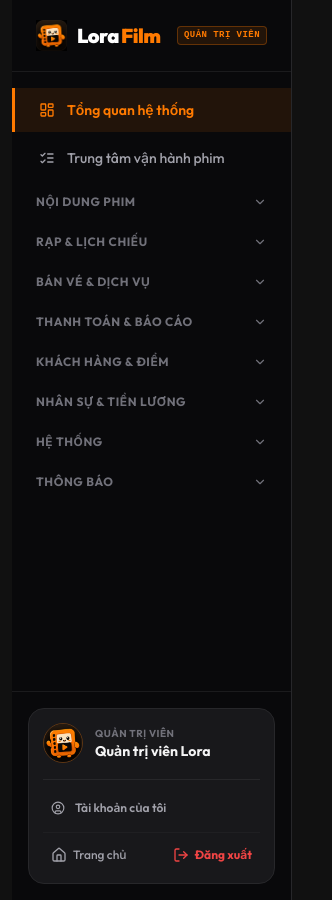
Test: AdminSidebar › separates system administration from notification operations
This screenshot has width=332, height=900.
Check: the button "Thông báo" is shown, box [12,464,291,500]
Click the button "Hệ thống" at coordinates (69, 442), box [12,424,291,460]
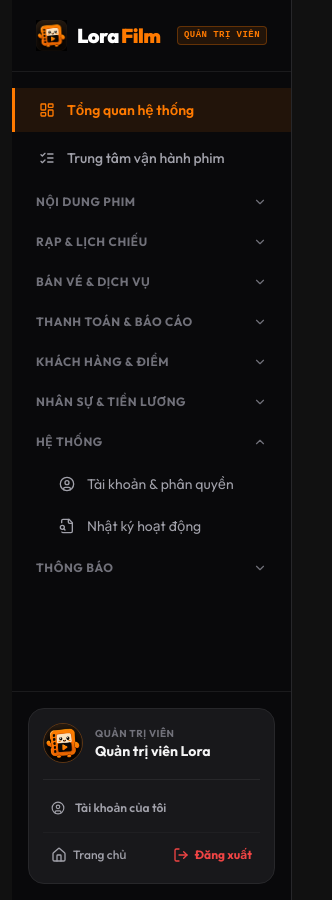
Check: the button "Tài khoản & phân quyền" is shown, box [12,464,291,504]
Check: the button "Nhật ký hoạt động" is shown, box [12,506,291,546]
